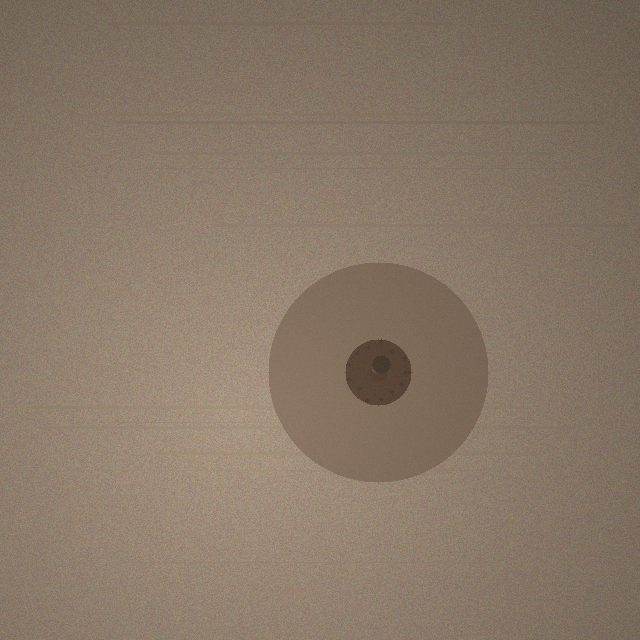cold_weld: (268, 262, 488, 482)
